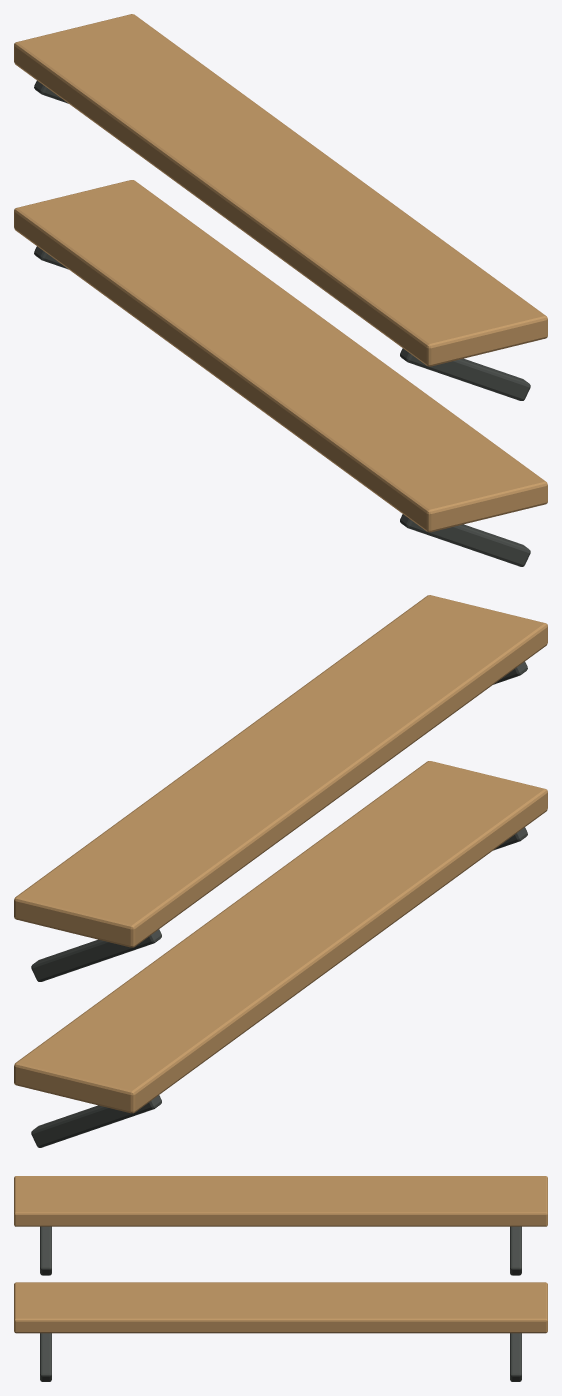
File: SM_PlayerHouse_Shelves.fbx
3 views of the same model, one above another, from view 1: azimuth 30°, elevation 25°; view 2: azimuth 150°, elevation 25°; view 3: azimuth 270°, elevation 25° (orthographic). The views are drawn at different scales.
Parts seen in each view (by area): view 1: SM_PlayerHouse_Shelves; view 2: SM_PlayerHouse_Shelves; view 3: SM_PlayerHouse_Shelves.
Boxes of the visible parts, x1=… form: SM_PlayerHouse_Shelves: x1=14, y1=14, x2=547, y2=566; SM_PlayerHouse_Shelves: x1=14, y1=595, x2=547, y2=1147; SM_PlayerHouse_Shelves: x1=14, y1=1176, x2=547, y2=1381.
Size of what is drawn, in the model's own units: 43.14 by 250 by 87.97.
